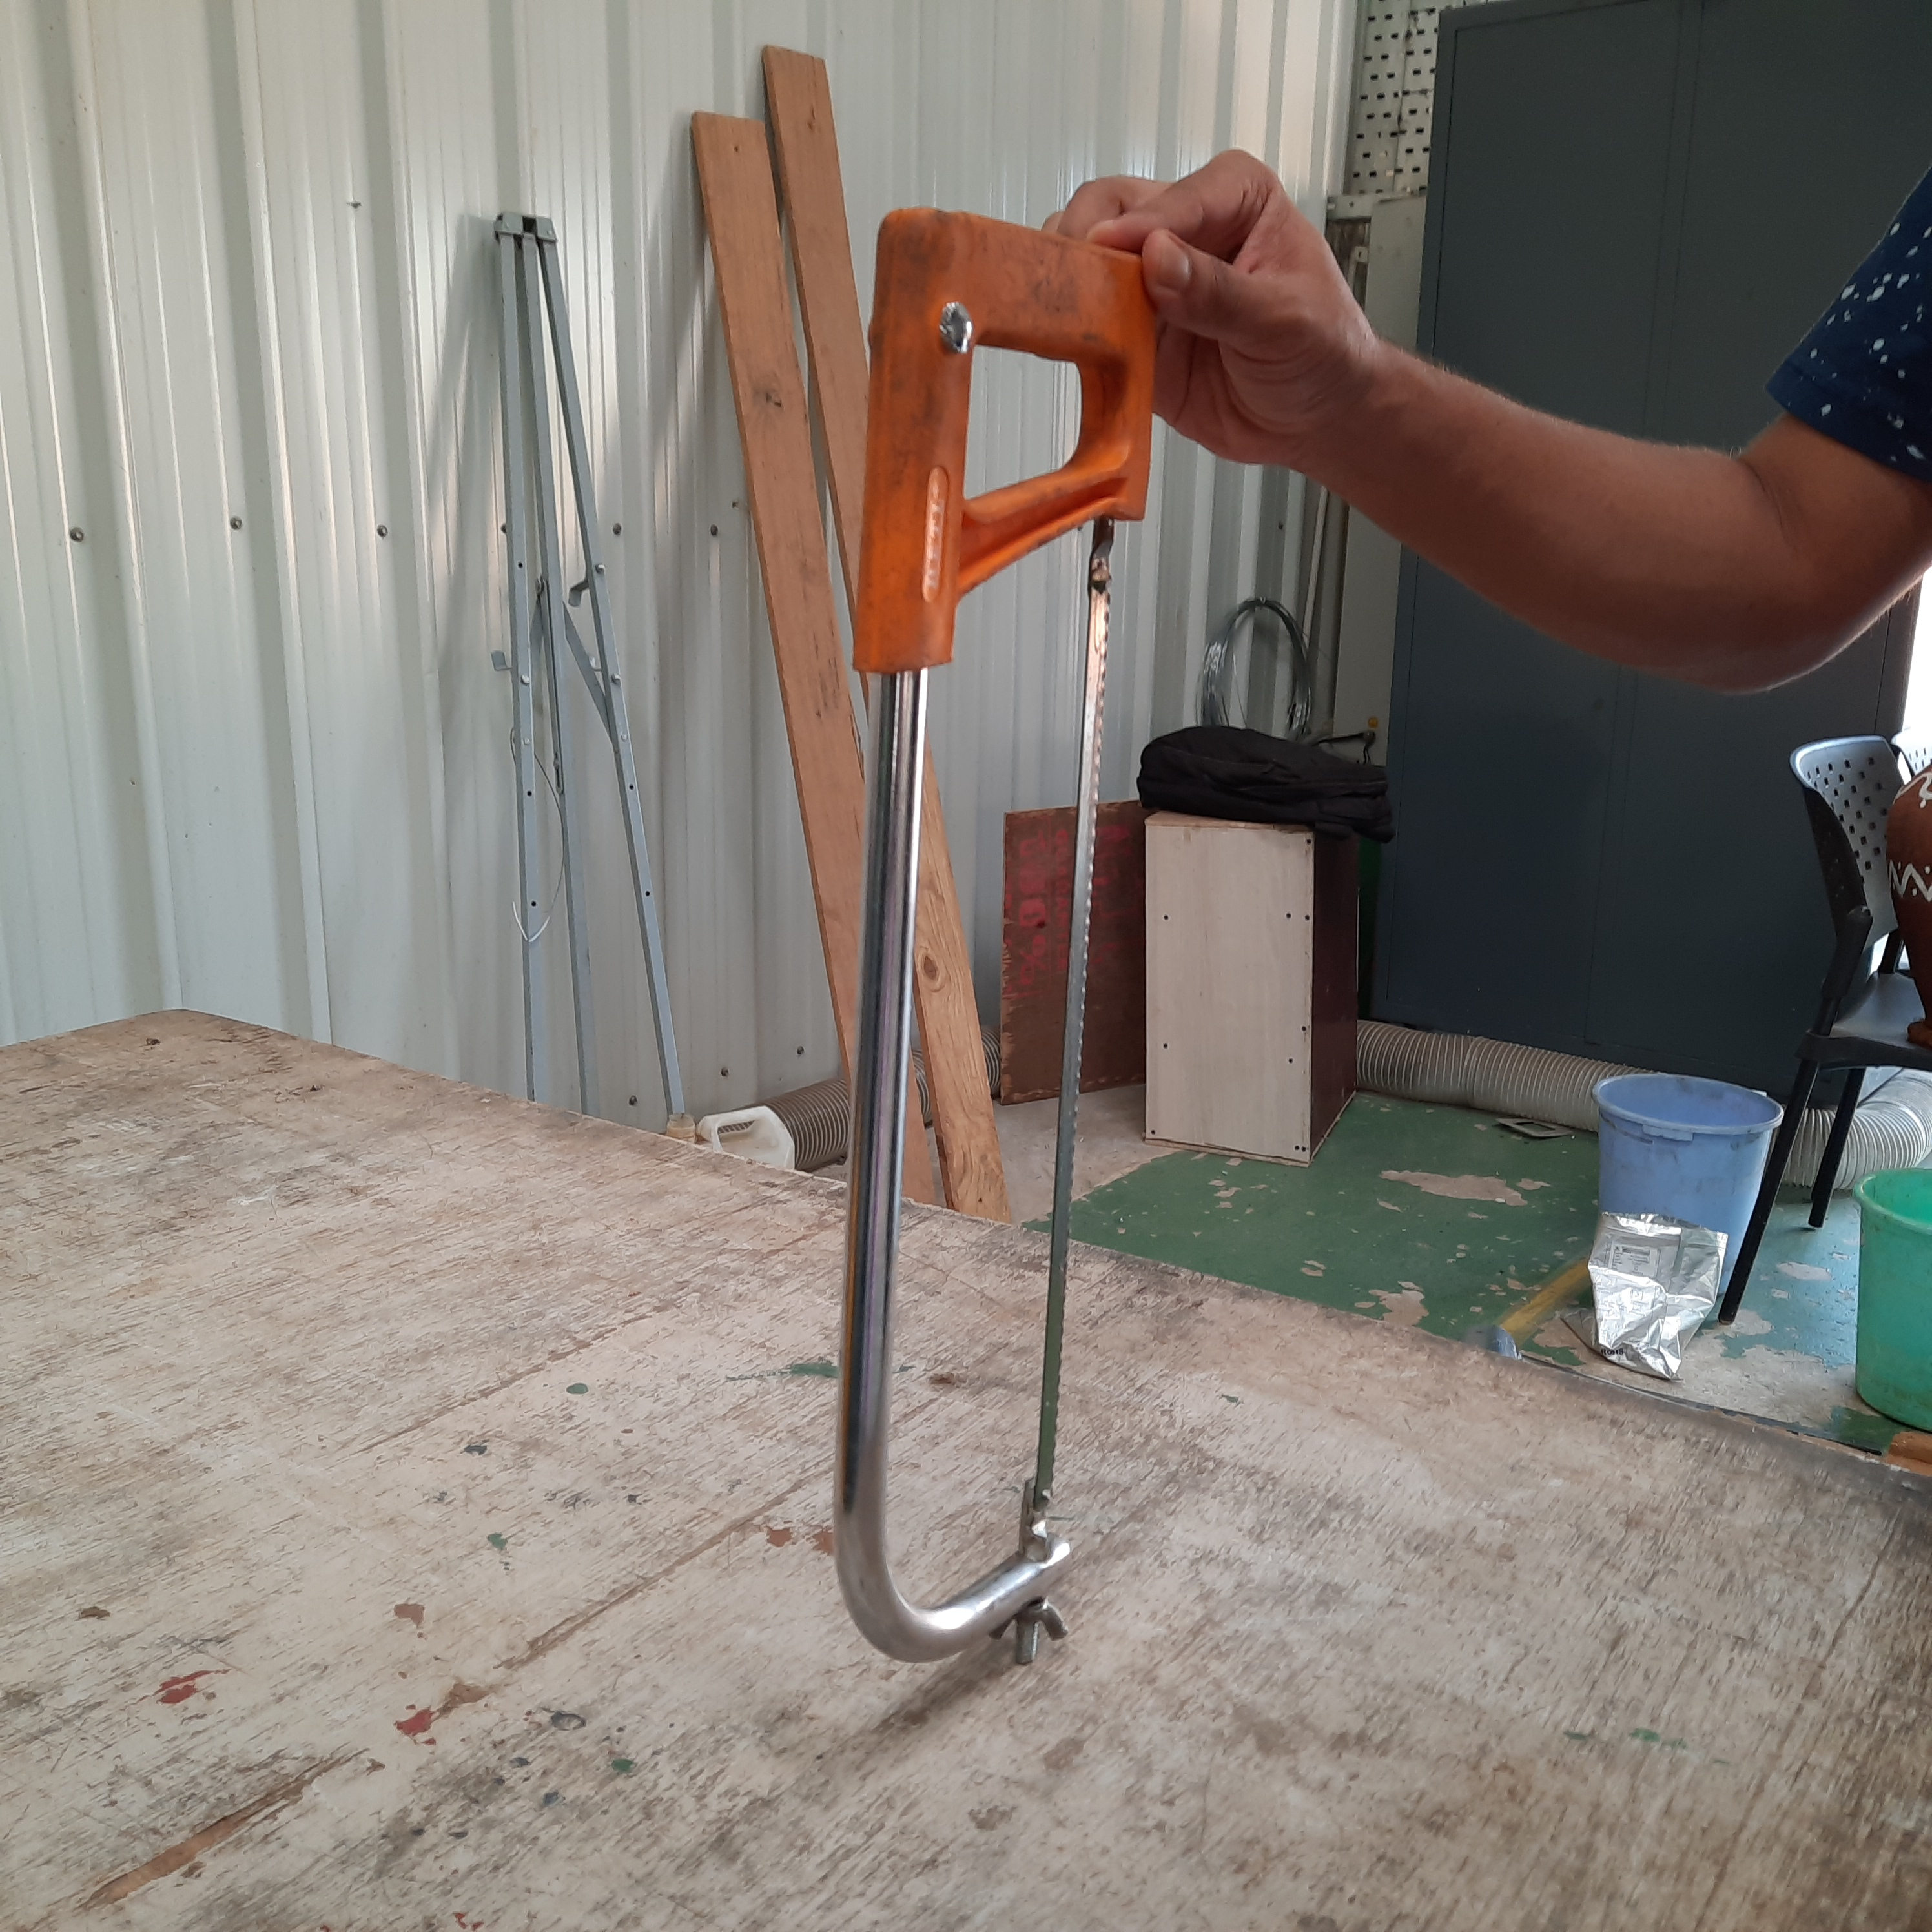Hexaframe: (828, 202, 1159, 1661)
